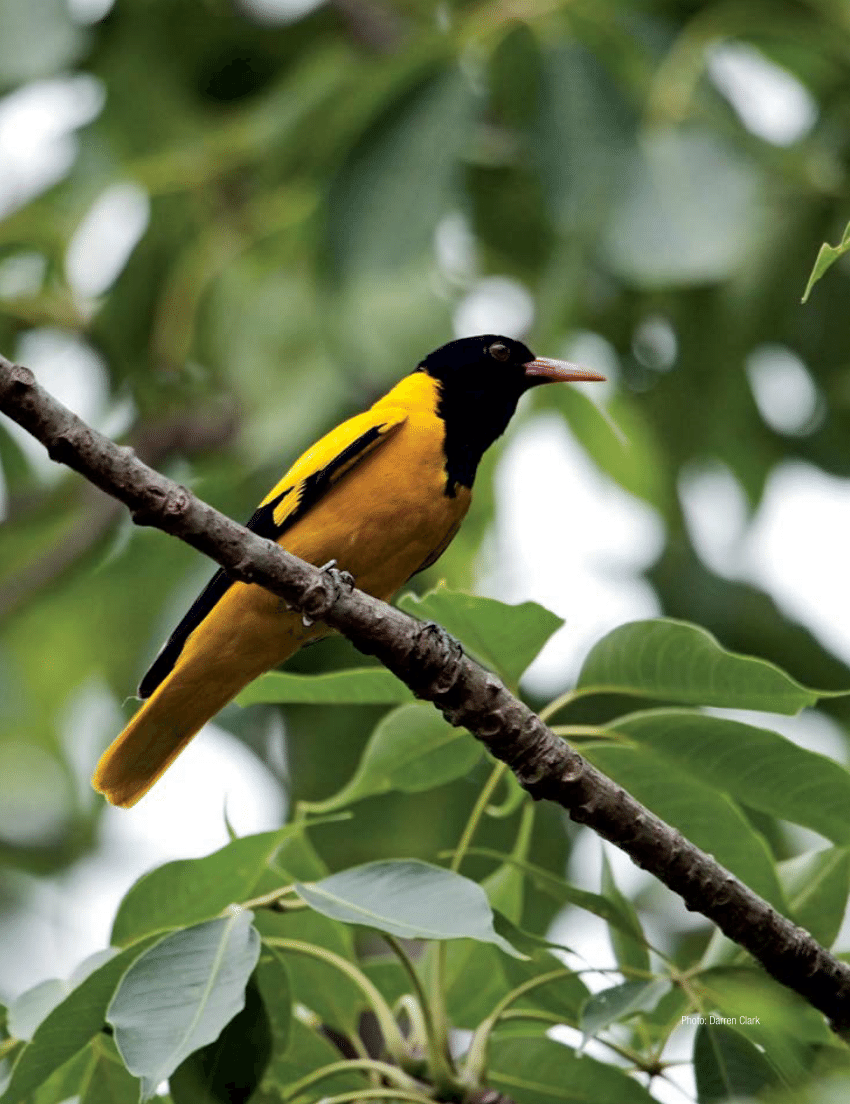bird: (84, 311, 622, 837)
